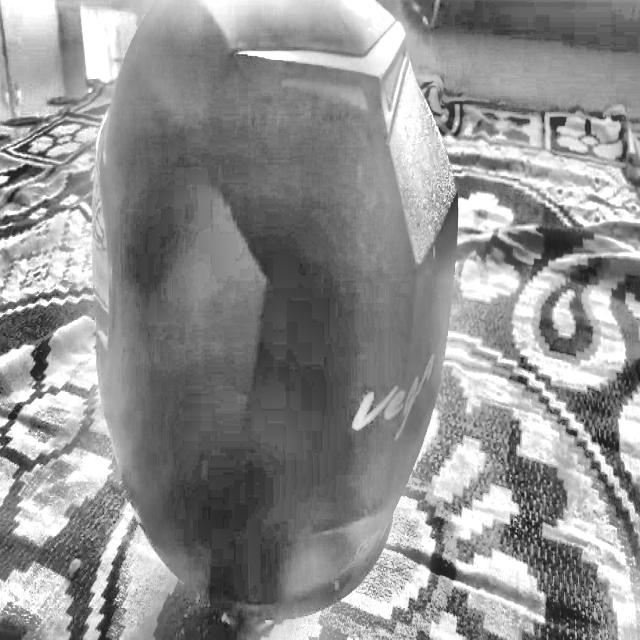Helmet: (93, 0, 457, 616)
